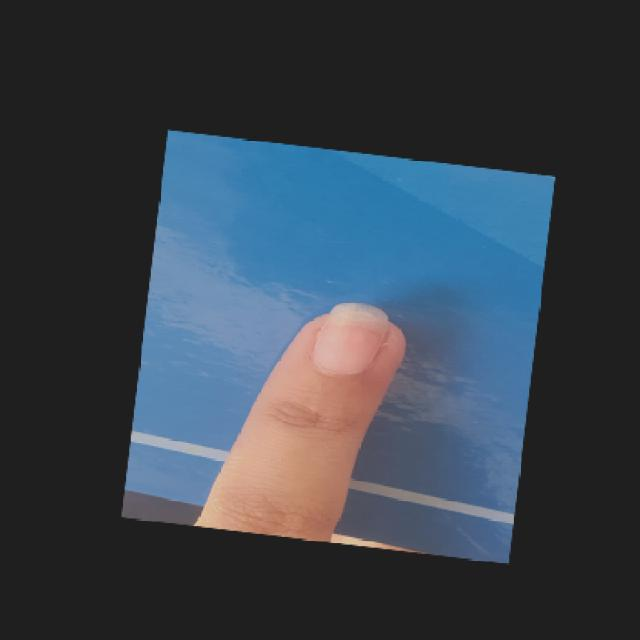Nail: (312, 303, 385, 373)
